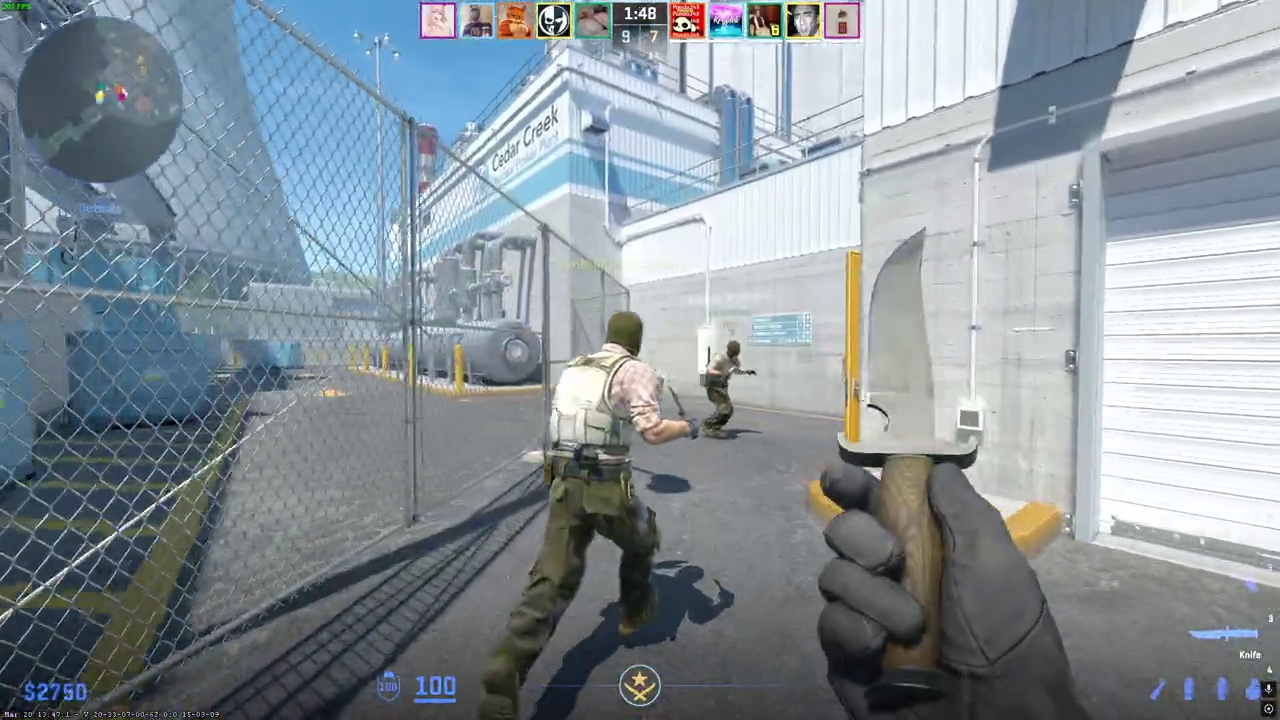Terrorist: (492, 312, 664, 720), (700, 339, 746, 441)
